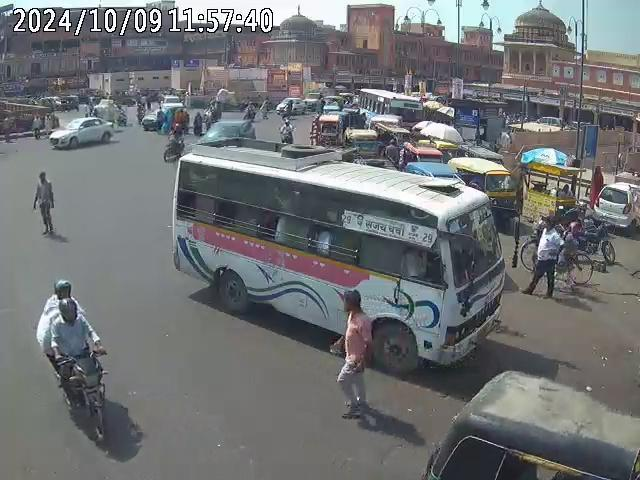auto: (415, 369, 638, 479), (452, 156, 514, 214), (310, 112, 344, 147)
bus: (170, 139, 503, 394), (357, 87, 425, 128)
car: (592, 181, 639, 234), (46, 117, 114, 151)
helmet: (60, 297, 80, 324), (52, 277, 73, 298)
motorbike-rider: (33, 277, 109, 442), (163, 125, 187, 162)
person: (336, 280, 375, 409), (524, 214, 564, 302), (32, 169, 55, 238), (29, 112, 48, 139)
